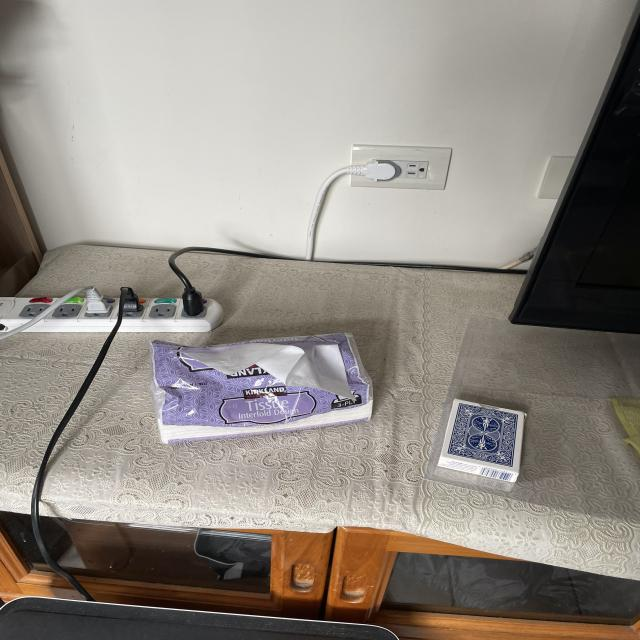tissue: (143, 326, 380, 449)
